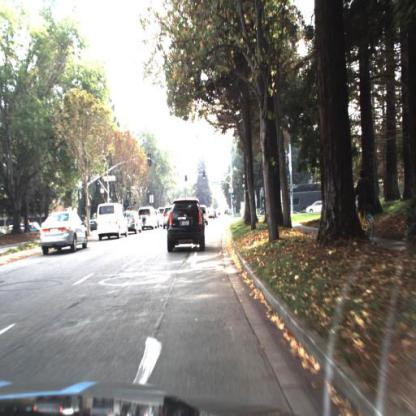biker: (355, 169, 377, 244)
car: (167, 196, 207, 255), (39, 211, 89, 254), (95, 202, 130, 240), (140, 206, 156, 233), (128, 210, 142, 233), (307, 198, 325, 214)
trafficLight-Green: (201, 167, 208, 184)
